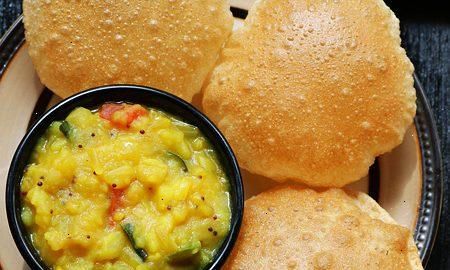puri: (240, 0, 431, 270)
